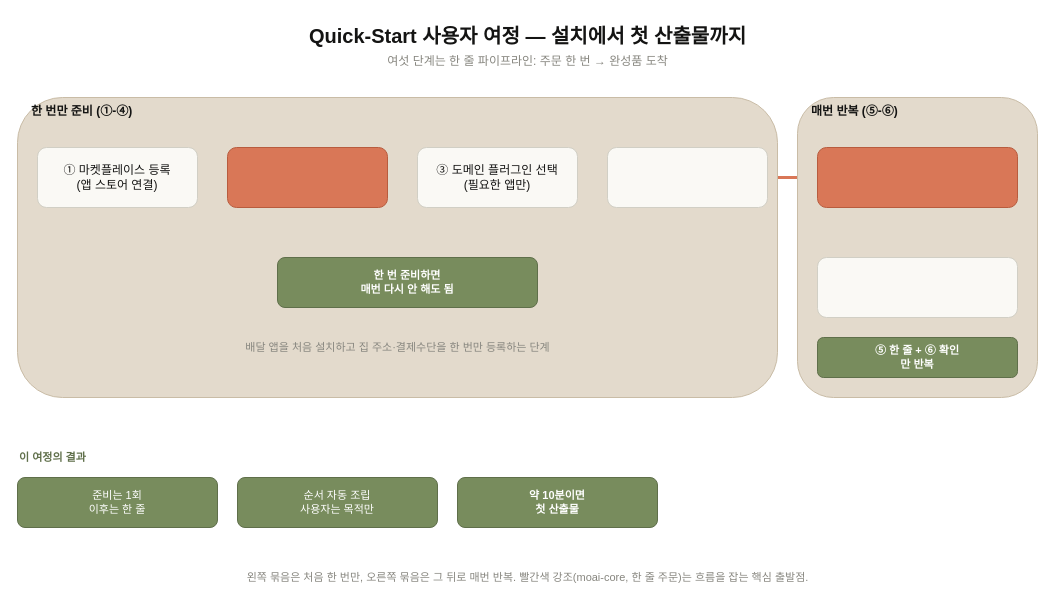
The diagram is 1055 pixels wide and 614 high, and some of its shapes have lost their labels. The centre of each missing label's shape, as x and y in pixels:
② moai-core 설치 (운영체제 깔기): the point at 307,177
④ 프로젝트 + /project init (주소·결제 등록): the point at 687,177
⑤ 한 줄 주문 (자연어 요청): the point at 917,177
⑥ 산출물 도착 (완성품): the point at 917,287
